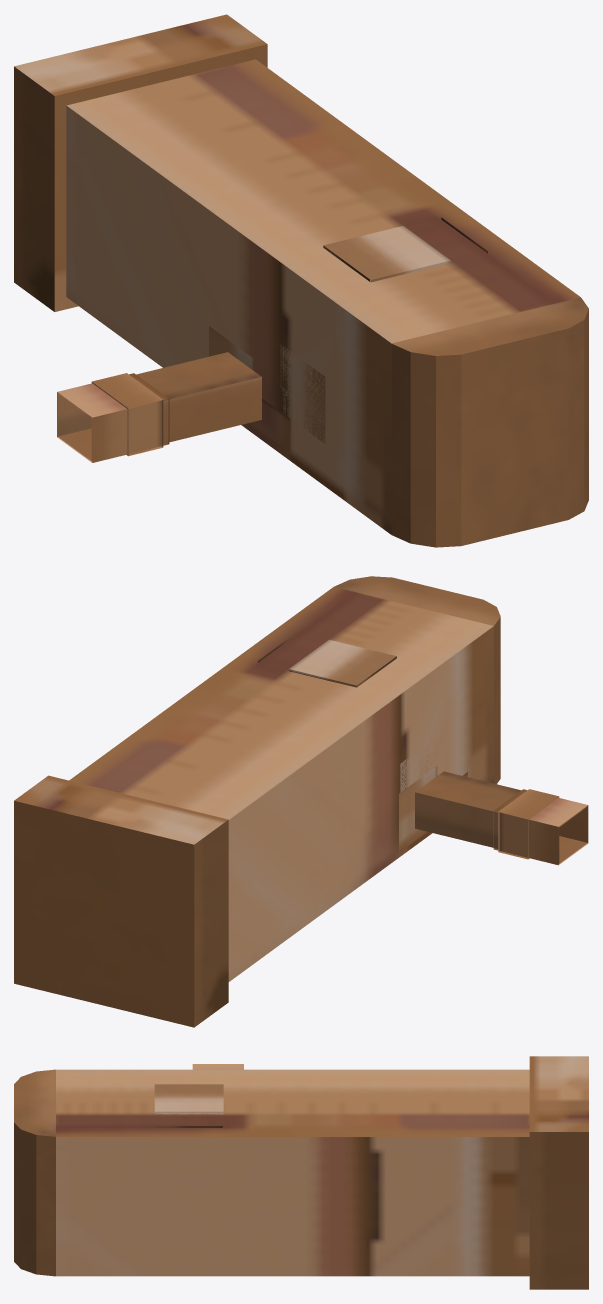
Rendered from section-7.obj.
3 renders of one model, top to bottom at view 1: azimuth 30°, elevation 25°; view 2: azimuth 150°, elevation 25°; view 3: azimuth 270°, elevation 25°, orthographic. The views are drawn at different scales.
Size of the model in its own units: 0.693 by 0.352 by 1.16.
